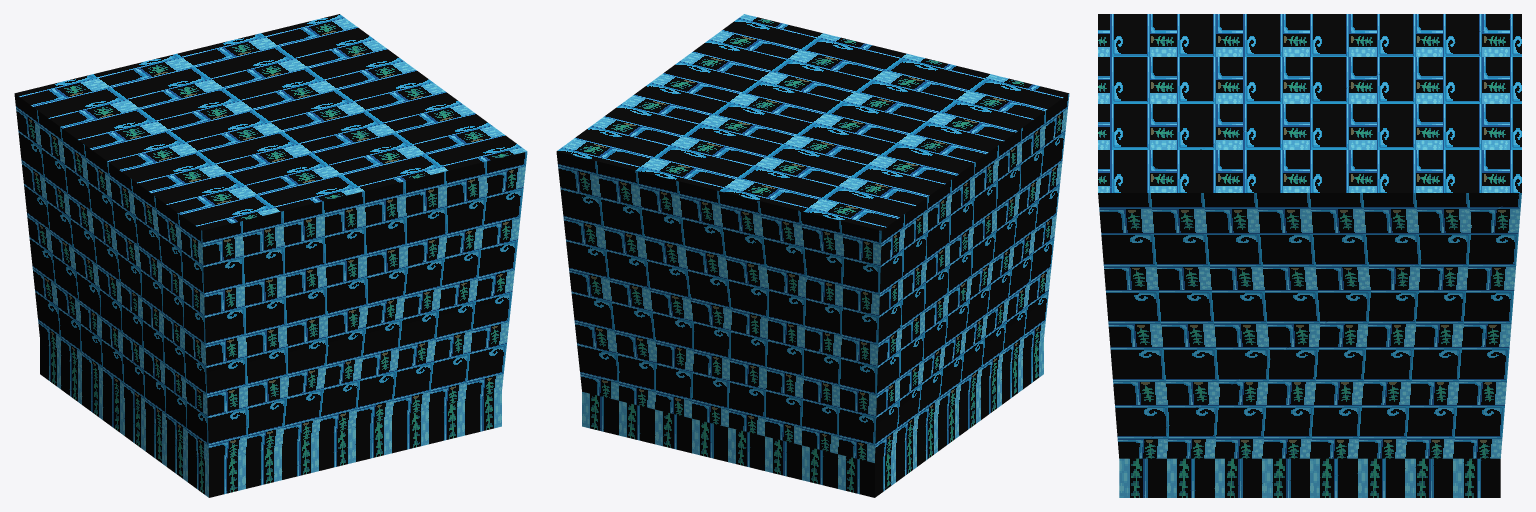
Rendered from fish_suiso_e.gltf.
3 views of the same model, side by side, from view 1: azimuth 30°, elevation 25°; view 2: azimuth 150°, elevation 25°; view 3: azimuth 270°, elevation 25° (orthographic). The views are drawn at different scales.
Parts seen in each view (by area): view 1: fish_suiso_e; view 2: fish_suiso_e; view 3: fish_suiso_e.
Boxes of the visible parts, x1,y1,x2,y2 form: fish_suiso_e: [14, 14, 527, 497]; fish_suiso_e: [556, 14, 1069, 497]; fish_suiso_e: [1098, 14, 1521, 497].
Size of the model in its own units: 0.5181 by 0.4231 by 0.5181.
3 materials, 1 textured.
